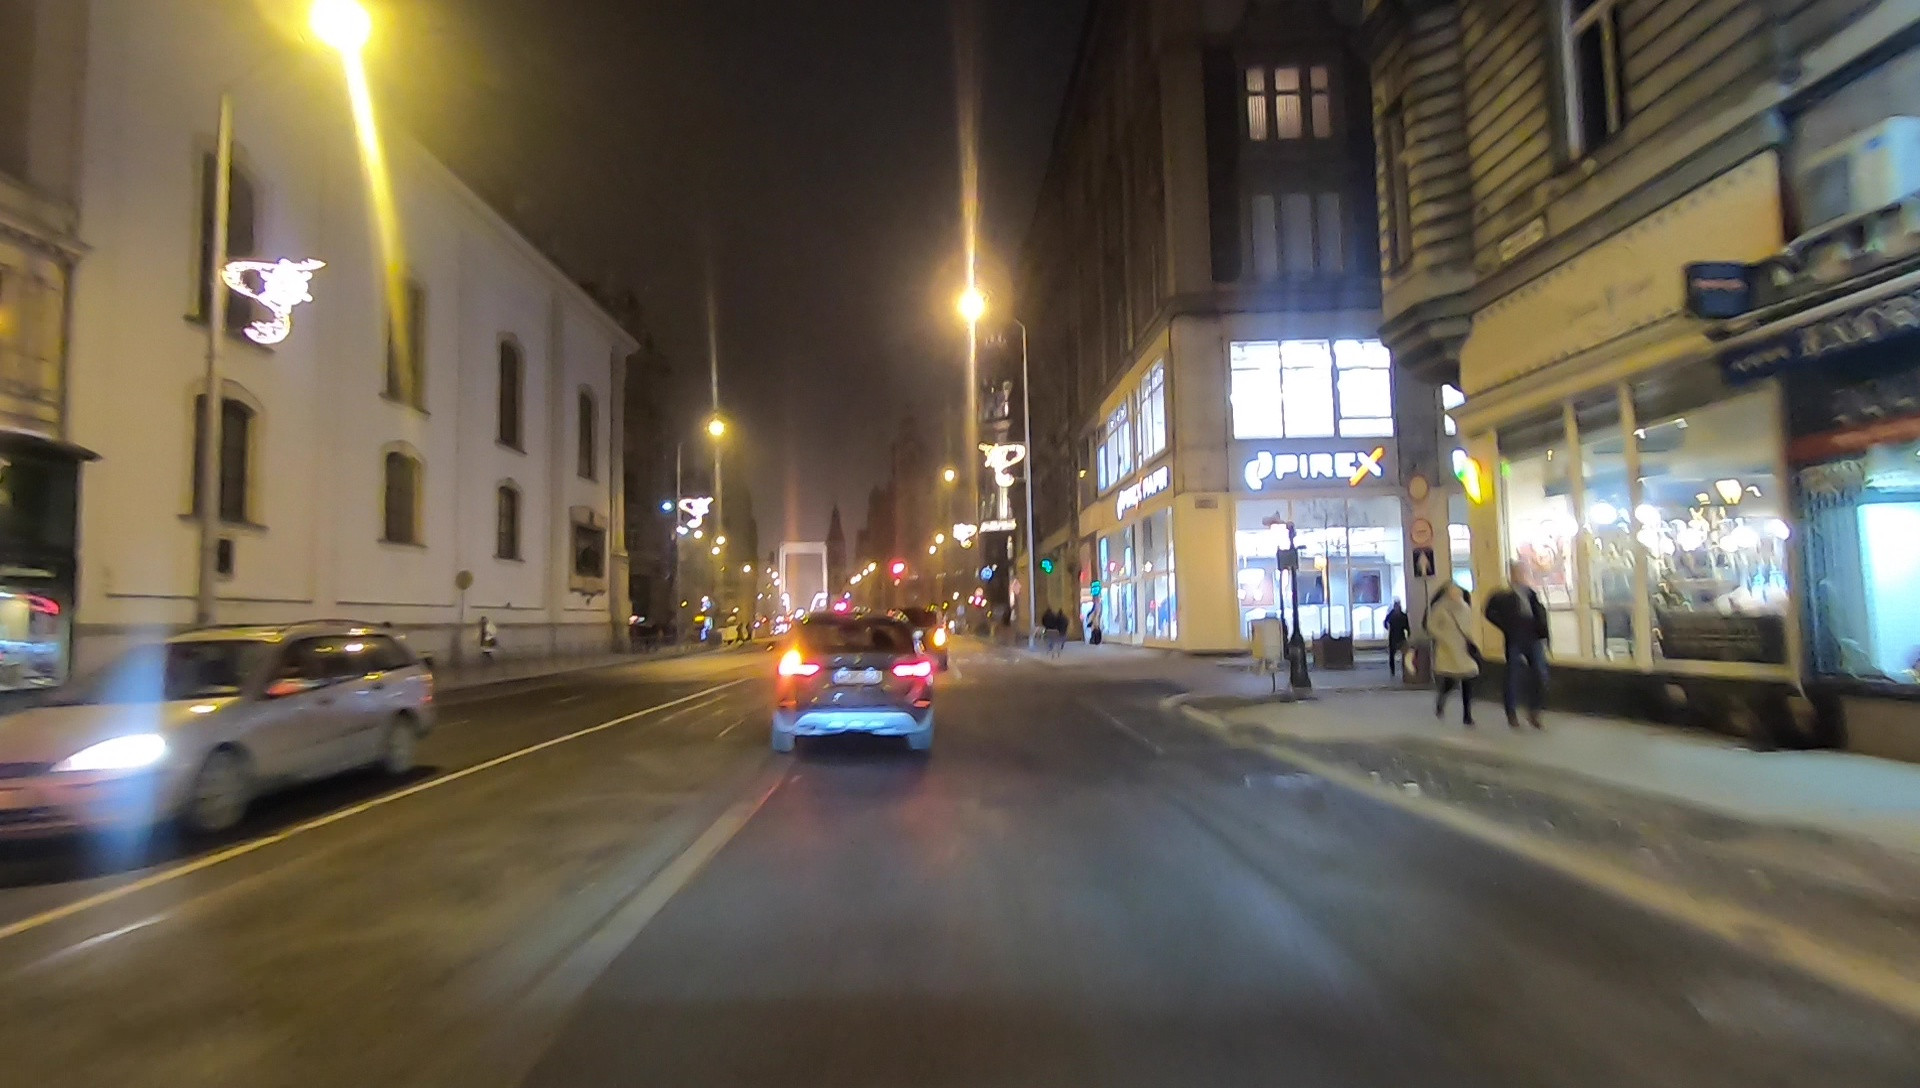person: (1488, 561, 1554, 734), (1430, 584, 1482, 726), (1384, 600, 1412, 676)
